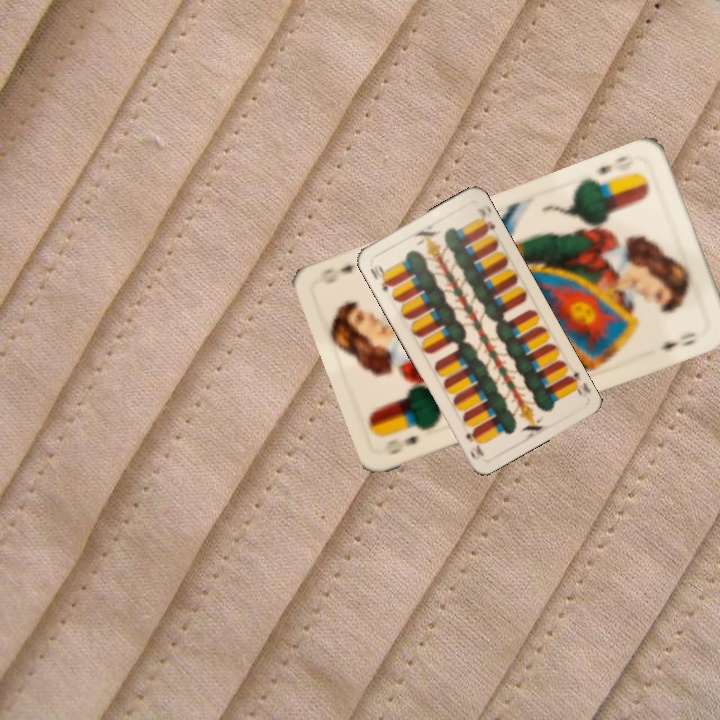E10: (562, 363, 592, 399), (366, 261, 395, 296)
EO: (381, 431, 421, 458), (586, 160, 615, 188)
